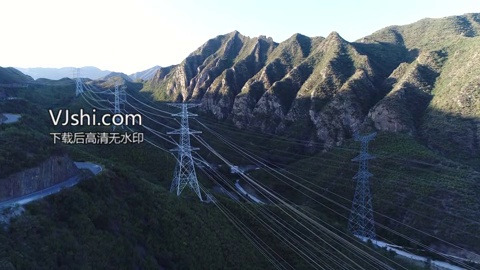tower_body: (165, 98, 213, 202), (343, 127, 380, 236)
tower_foot: (169, 172, 206, 200), (344, 209, 378, 234)
tower_head: (169, 100, 205, 119), (352, 130, 378, 142)
